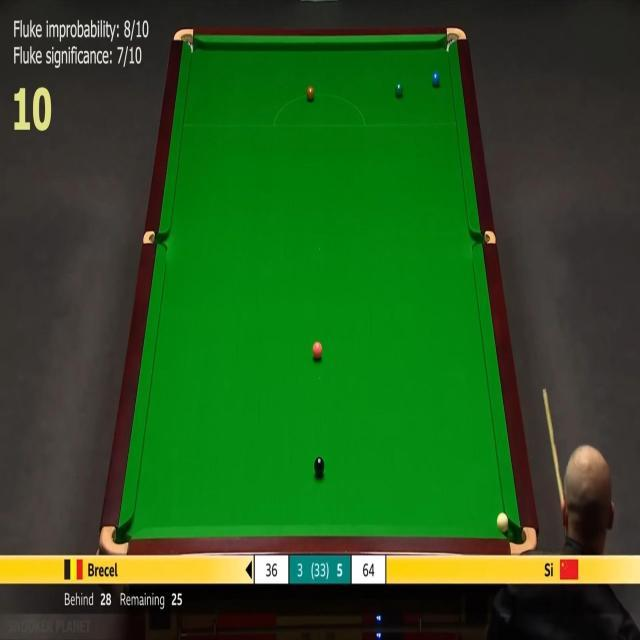Ball: (496, 512, 508, 532), (314, 456, 324, 474), (312, 342, 322, 358), (432, 72, 440, 86), (306, 86, 314, 100), (395, 83, 403, 96)
